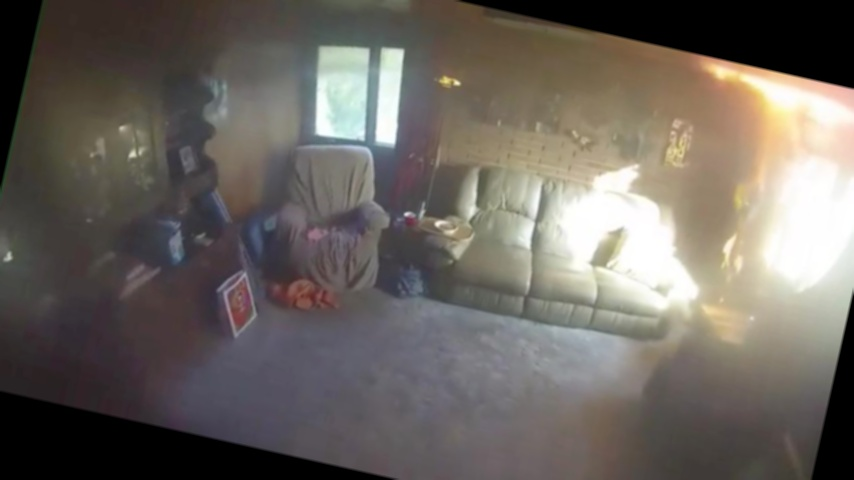fire: (655, 57, 854, 306)
